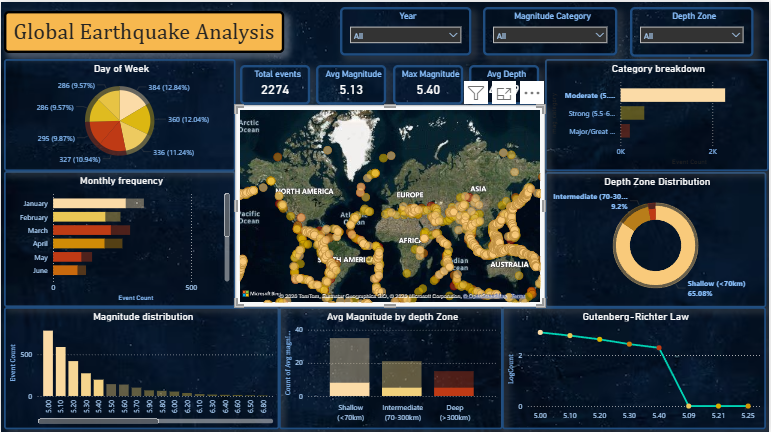

The page's visual inventory and layout, read from the dashboard file:
{"tool":"powerbi","page":{"name":"Page 2","canvas":[1280,720],"ordinal":0},"visuals":[{"type":"map","fields":{"Size":["Median(earthquakes_cleaned.Avg magnitude)"],"X":["earthquakes_cleaned.longitude"],"Y":["earthquakes_cleaned.latitude"]},"box":[390,171.4,517.1,337.1],"z":0},{"type":"barChart","title":"Monthly frequency","fields":{"Y":["earthquakes_cleaned.Event Count"],"Category":["earthquakes_cleaned.time.Variation.Date Hierarchy.Month"]},"box":[4.3,281.4,385.7,227.1],"z":1000},{"type":"textbox","box":[4.3,14.3,467.1,70],"z":2000},{"type":"donutChart","title":"Depth Zone Distribution","fields":{"Y":["earthquakes_cleaned.Event Count"],"Category":["earthquakes_cleaned.depth_zone"]},"box":[907.1,282.9,368.6,225.7],"z":3000},{"type":"clusteredColumnChart","title":"Magnitude distribution","fields":{"Y":["earthquakes_cleaned.Event Count"],"Category":["earthquakes_cleaned.Avg magnitude"]},"box":[4.3,508.6,458.6,204.3],"z":4000},{"type":"columnChart","title":"Avg Magnitude by depth Zone","fields":{"Y":["Count(earthquakes_cleaned.Avg magnitude)"],"Category":["earthquakes_cleaned.depth_zone"]},"box":[462.9,508.6,372.9,204.3],"z":5000},{"type":"lineChart","title":"Gutenberg-Richter Law","fields":{"Category":["earthquakes_cleaned.Avg magnitude"],"Y":["earthquakes_cleaned.LogCount"]},"box":[835.7,508.6,440,204.3],"z":6000},{"type":"pieChart","title":"Day of Week","fields":{"Category":["earthquakes_cleaned.day_of_week"],"Y":["earthquakes_cleaned.Event Count"]},"box":[4.3,95.7,385.7,187.1],"z":7000},{"type":"clusteredBarChart","title":"Category breakdown","fields":{"Category":["earthquakes_cleaned.mag_category"],"Y":["earthquakes_cleaned.Event Count"]},"box":[907.1,95.7,372.9,187.1],"z":8000},{"type":"card","title":"Total events","fields":{"Values":["earthquakes_cleaned.Event Count"]},"box":[398.6,105.7,117.1,65.7],"z":9000},{"type":"card","title":"Avg Magnitude","fields":{"Values":["Avg(earthquakes_cleaned.Avg magnitude)"]},"box":[525.7,105.7,117.1,65.7],"z":10000},{"type":"card","title":"Max Magnitude","fields":{"Values":["Max(earthquakes_cleaned.Avg magnitude)"]},"box":[652.9,105.7,117.1,65.7],"z":11000},{"type":"card","title":"Avg Depth","fields":{"Values":["Avg(earthquakes_cleaned.depth)"]},"box":[780,105.7,117.1,65.7],"z":12000},{"type":"slicer","title":"Magnitude Category","fields":{"Values":["earthquakes_cleaned.mag_category"]},"box":[802.9,8.6,224.3,81.4],"z":13000},{"type":"slicer","title":"Year","fields":{"Values":["earthquakes_cleaned.year"]},"box":[564.3,8.6,218.6,81.4],"z":13001},{"type":"slicer","title":"Depth Zone","fields":{"Values":["earthquakes_cleaned.depth_zone"]},"box":[1047.5,7.5,206.2,82.5],"z":13002}]}

Visuals, with their boxes in screenshot pixels (x1, y1, x2, y2), scaled from the page's 1280x720 canvas onto the 771x432 screenshot:
map - Median(earthquakes_cleaned.Avg magnitude) x earthquakes_cleaned.longitude: bbox(235, 103, 546, 305)
"Monthly frequency" barChart: bbox(3, 169, 235, 305)
textbox: bbox(3, 9, 284, 51)
"Depth Zone Distribution" donutChart: bbox(546, 170, 768, 305)
"Magnitude distribution" clusteredColumnChart: bbox(3, 305, 279, 428)
"Avg Magnitude by depth Zone" columnChart: bbox(279, 305, 503, 428)
"Gutenberg-Richter Law" lineChart: bbox(503, 305, 768, 428)
"Day of Week" pieChart: bbox(3, 57, 235, 170)
"Category breakdown" clusteredBarChart: bbox(546, 57, 770, 170)
"Total events" card: bbox(240, 63, 311, 103)
"Avg Magnitude" card: bbox(317, 63, 387, 103)
"Max Magnitude" card: bbox(393, 63, 464, 103)
"Avg Depth" card: bbox(470, 63, 540, 103)
"Magnitude Category" slicer: bbox(484, 5, 619, 54)
"Year" slicer: bbox(340, 5, 472, 54)
"Depth Zone" slicer: bbox(631, 4, 755, 54)
